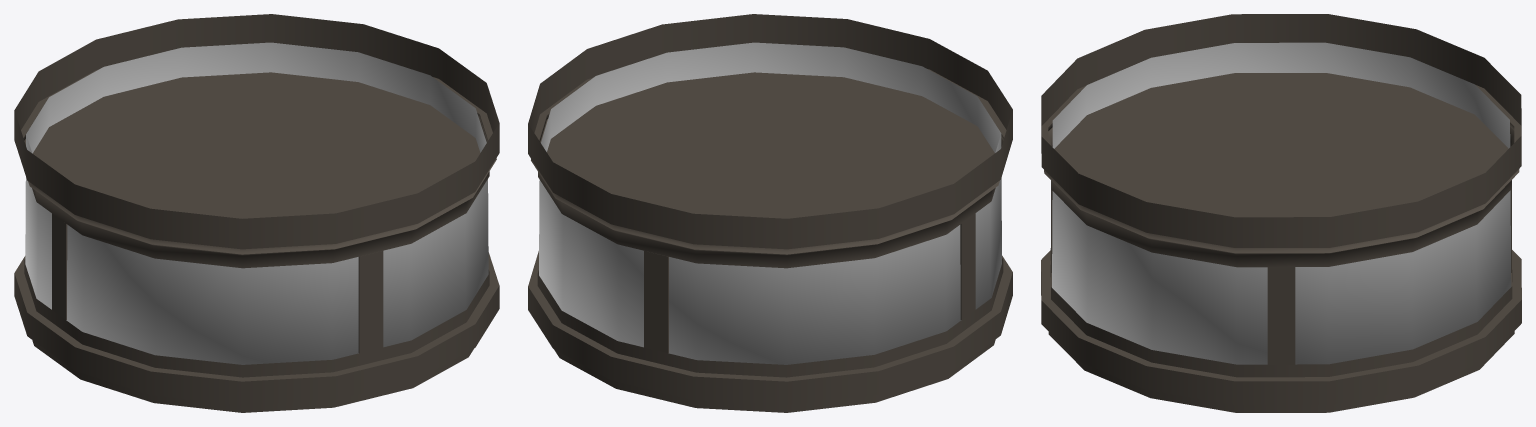
File: Ceiling Light 2.fbx
The picture shows the model from 3 angles, left to right: view 1: azimuth 30°, elevation 25°; view 2: azimuth 150°, elevation 25°; view 3: azimuth 270°, elevation 25°; orthographic projection.
Parts seen in each view (by area): view 1: Empty_Mesh_1, Empty_Mesh; view 2: Empty_Mesh_1, Empty_Mesh; view 3: Empty_Mesh_1, Empty_Mesh.
Boxes of the visible parts, x1,y1,x2,y2 form: Empty_Mesh_1: [14, 14, 499, 412]; Empty_Mesh: [25, 42, 488, 364]; Empty_Mesh_1: [528, 14, 1012, 412]; Empty_Mesh: [539, 42, 1001, 364]; Empty_Mesh_1: [1041, 14, 1521, 412]; Empty_Mesh: [1052, 42, 1511, 364].
Size of the model in its own units: 206 by 130 by 206.
